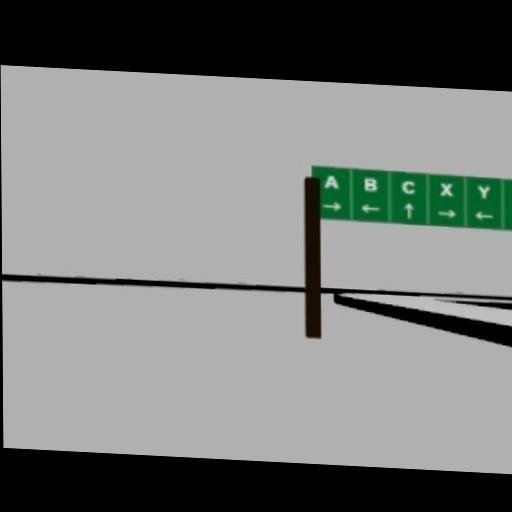A: (323, 171, 338, 189)
B: (363, 175, 378, 191)
C: (401, 179, 416, 193)
Left: (358, 201, 379, 213), (474, 211, 494, 220)
Right: (321, 200, 341, 211), (435, 208, 455, 217)
Straight: (404, 201, 414, 219)
X: (439, 181, 452, 195)
Y: (477, 183, 490, 199)
